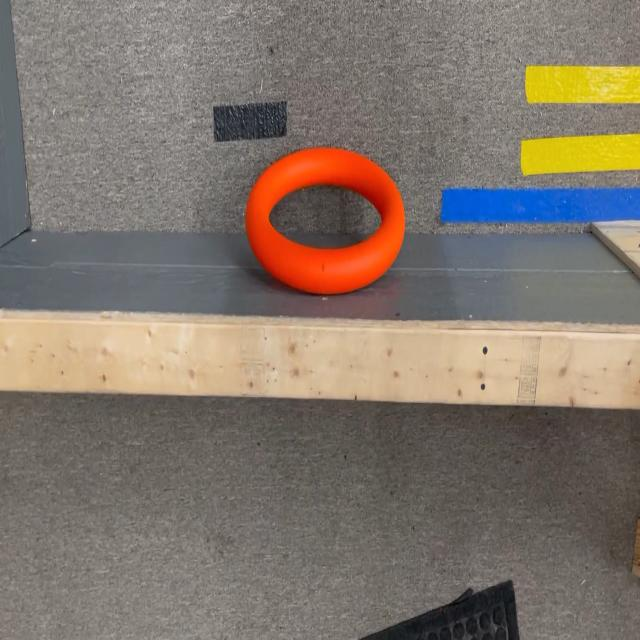note: (243, 147, 404, 292)
